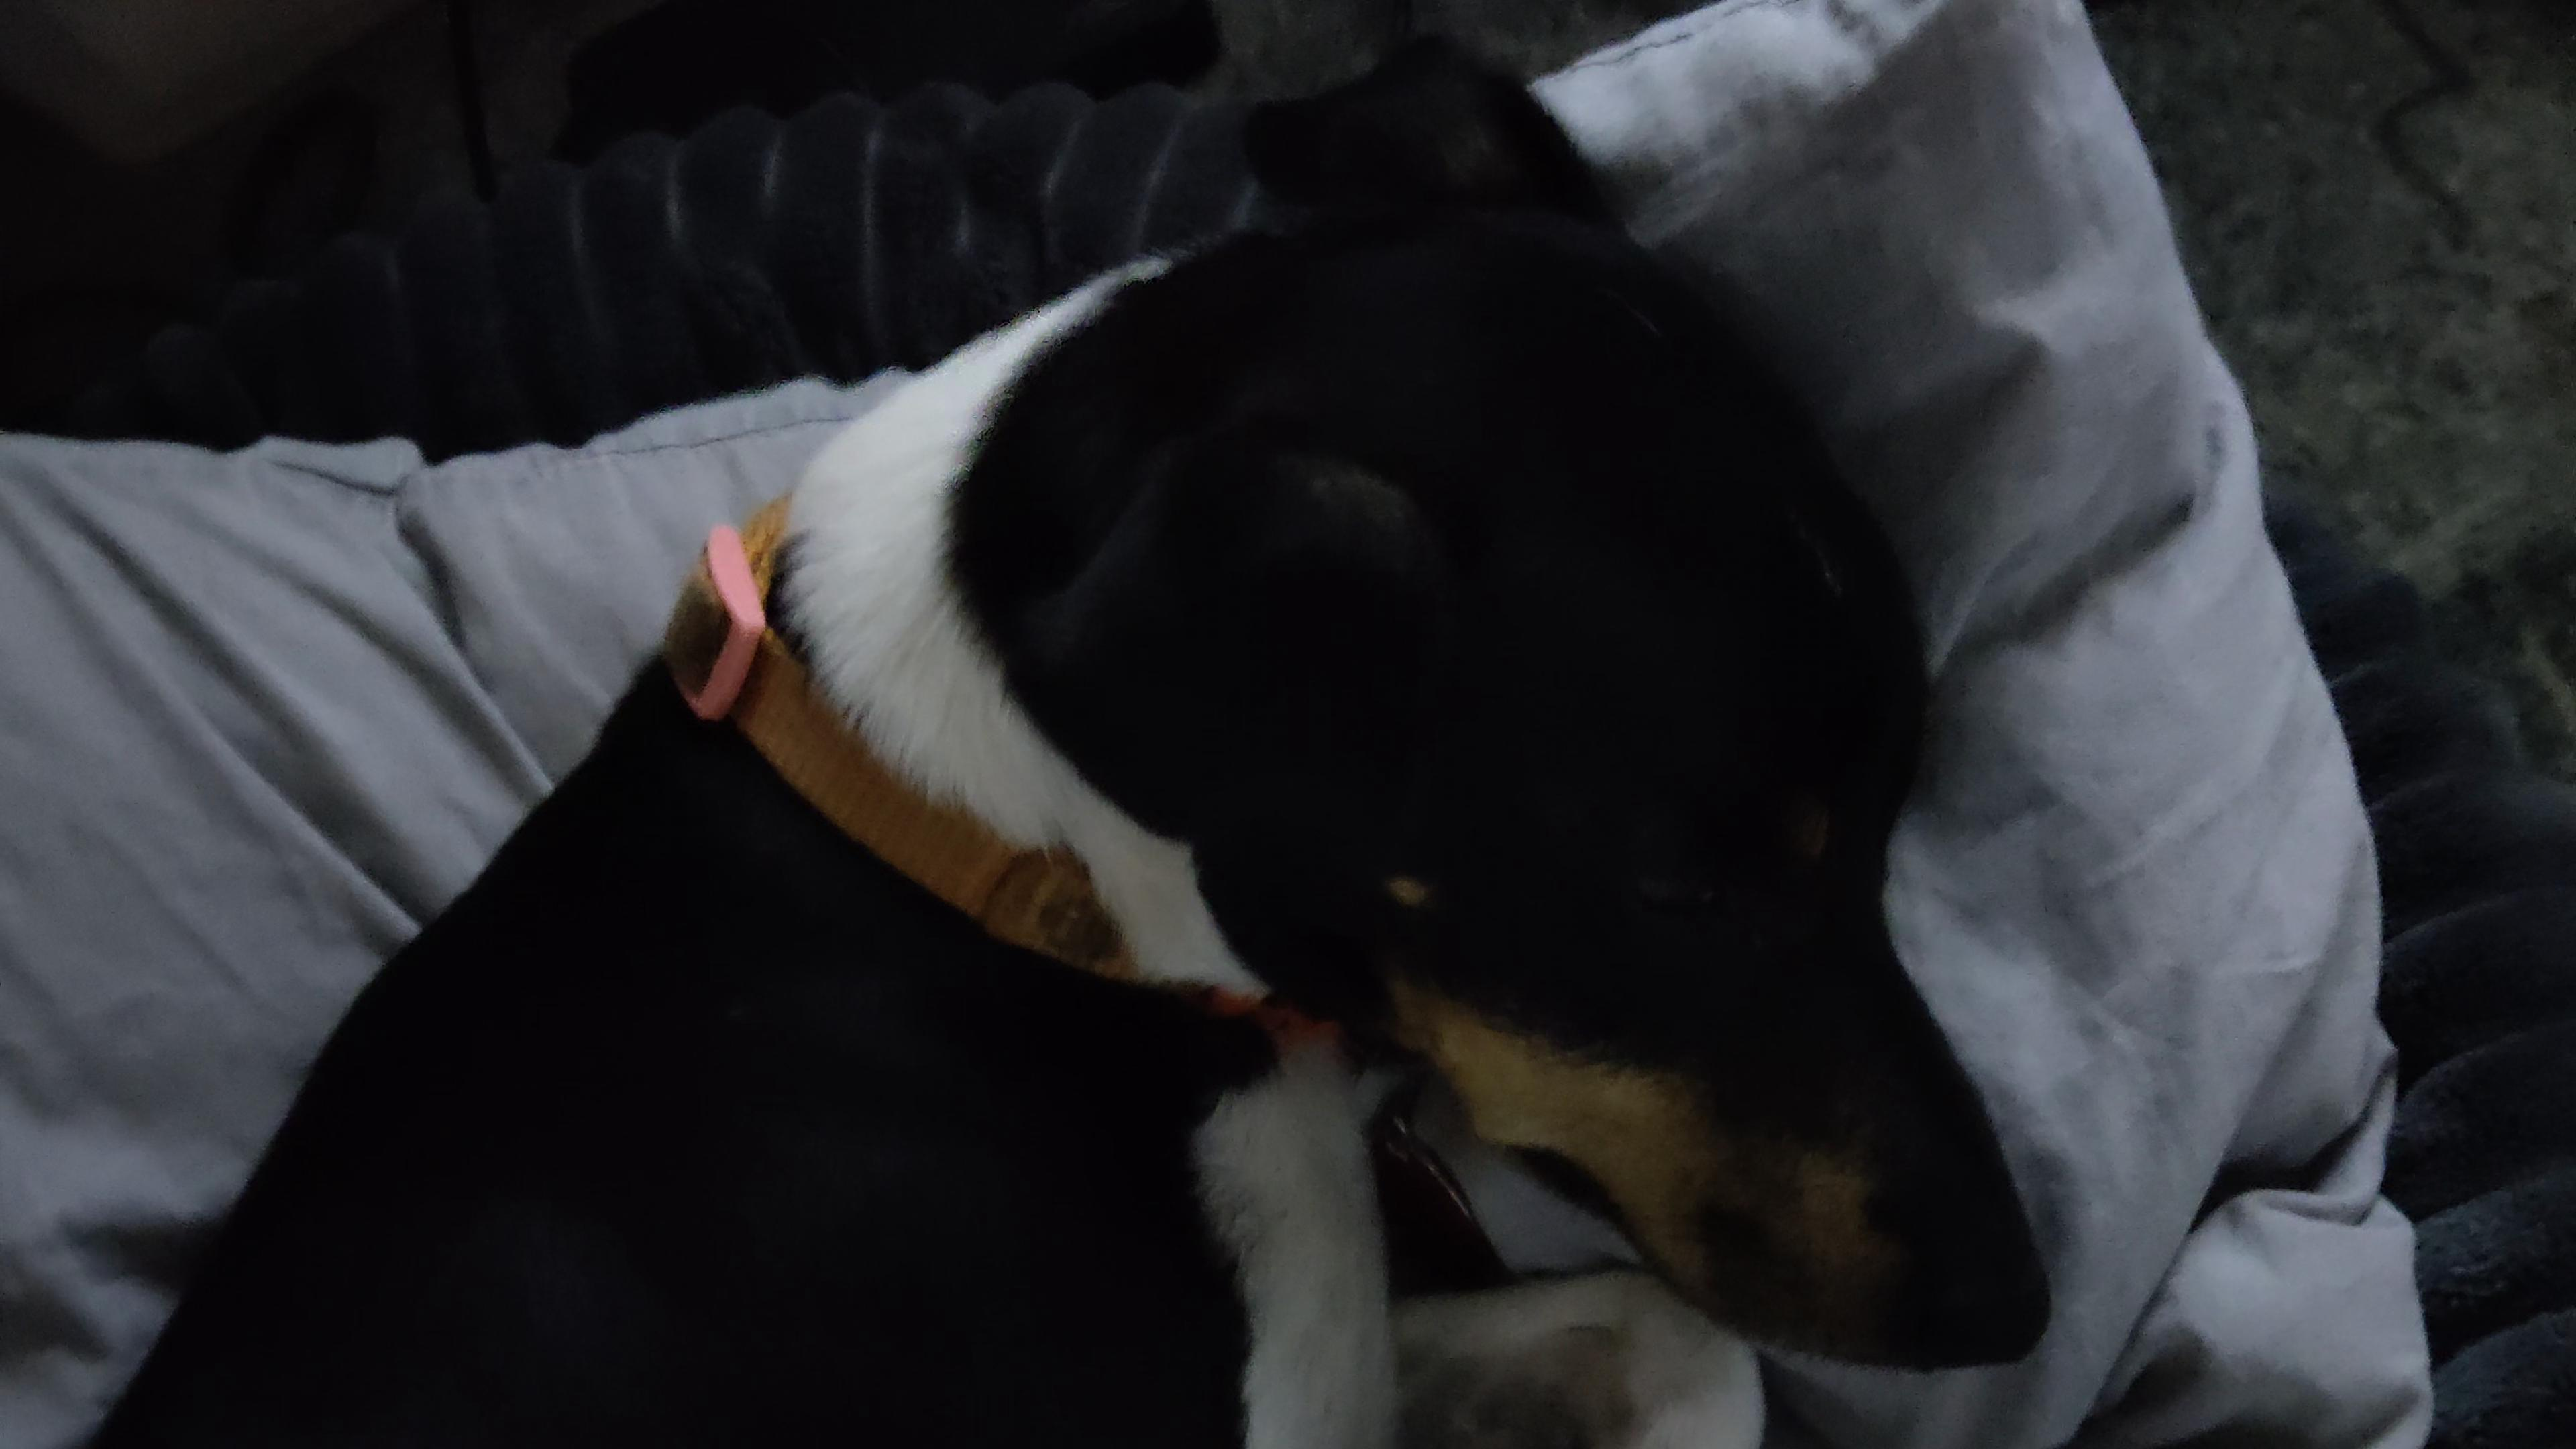Dog: (87, 16, 2077, 1449)
